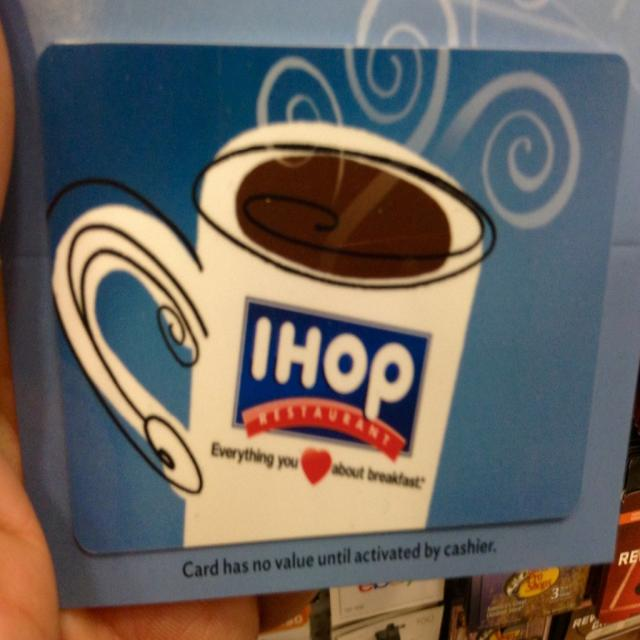Coffee: (237, 154, 452, 280)
